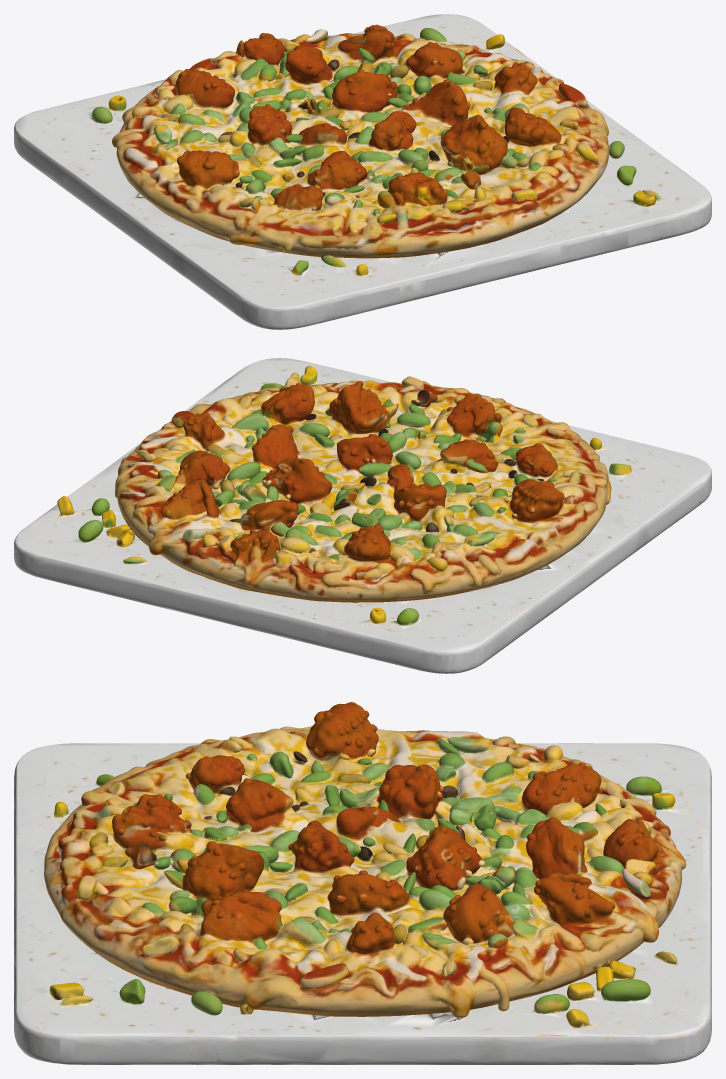
Rendered from pizza.glb.
The picture shows the model from 3 angles, top to bottom: view 1: azimuth 30°, elevation 25°; view 2: azimuth 150°, elevation 25°; view 3: azimuth 270°, elevation 25°; orthographic projection. The views are drawn at different scales.
Size of the model in its own units: 1.9 by 0.351 by 1.9.
Materials: 1 (1 with a texture image).
